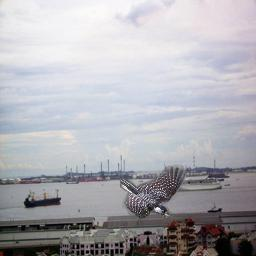Woodpecker: (120, 164, 188, 221)
